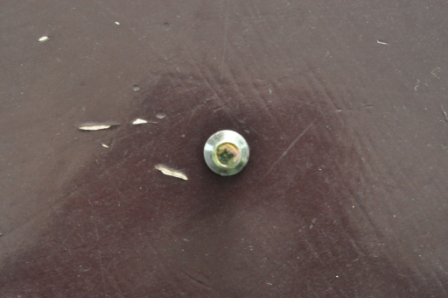NUT (MT): (202, 129, 252, 179)
